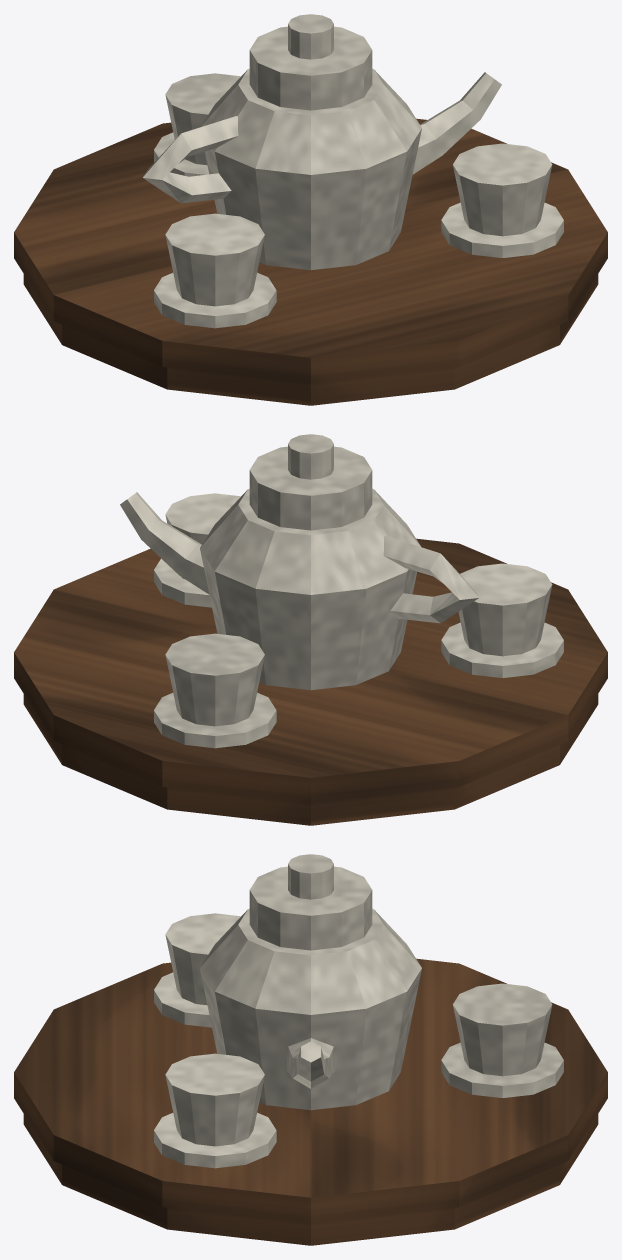
The model's file is tea_set.fbx.
The picture shows the model from 3 angles, top to bottom: view 1: azimuth 30°, elevation 25°; view 2: azimuth 150°, elevation 25°; view 3: azimuth 270°, elevation 25°; orthographic projection.
Visible parts, largest first — view 1: tea_set; view 2: tea_set; view 3: tea_set.
Part boxes in pixels (left/top/right/bottom): tea_set: left=14, top=14, right=607, bottom=405; tea_set: left=14, top=434, right=607, bottom=825; tea_set: left=14, top=854, right=607, bottom=1245.
Bounding box in the file's own units: 31 × 15 × 31.
